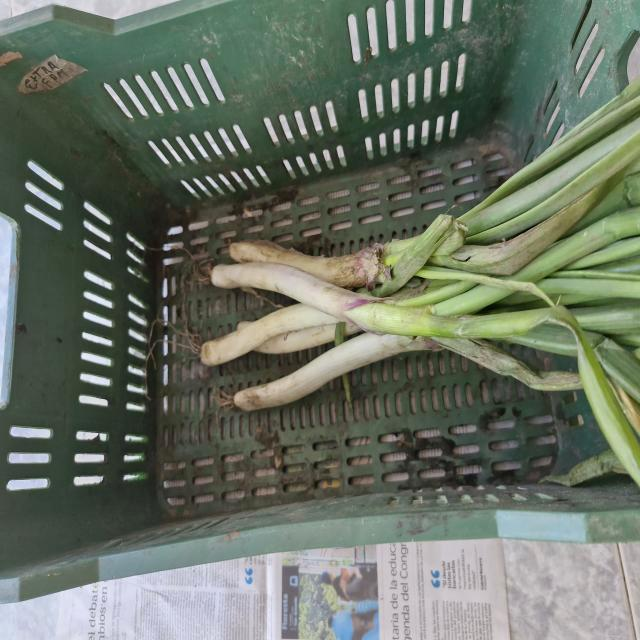green_onion: (209, 265, 638, 423), (197, 261, 640, 369)
